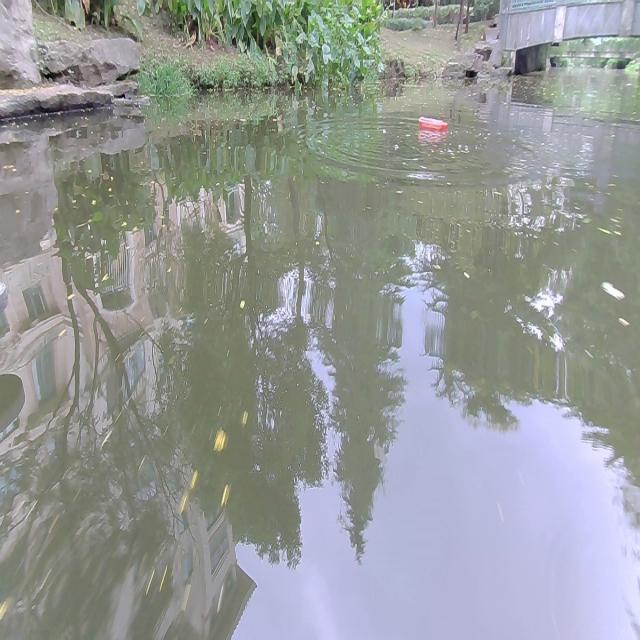bottle: (418, 115, 448, 132)
